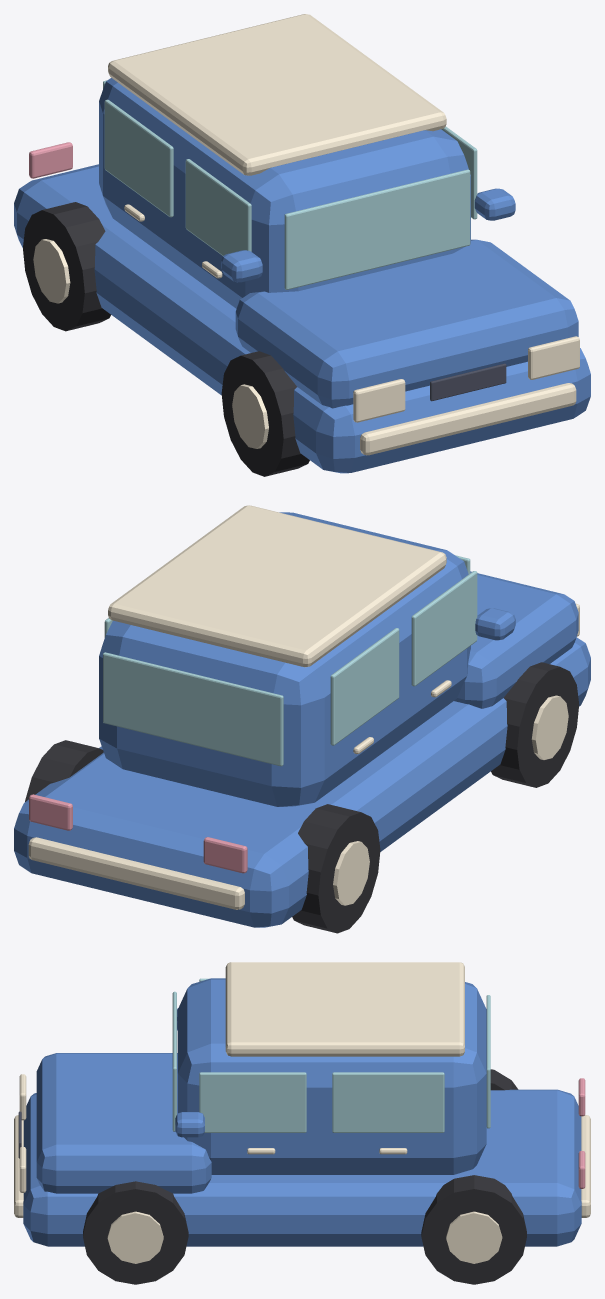
The model's file is car_ocean.glb.
3 views of the same model, one above another, from view 1: azimuth 30°, elevation 25°; view 2: azimuth 150°, elevation 25°; view 3: azimuth 270°, elevation 25° (orthographic). The views are drawn at different scales.
Parts seen in each view (by area): view 1: car_ocean_Mesh; view 2: car_ocean_Mesh; view 3: car_ocean_Mesh.
Boxes of the visible parts, x1,y1,x2,y2 form: car_ocean_Mesh: (14,14,590,476); car_ocean_Mesh: (14,505,590,933); car_ocean_Mesh: (14,962,590,1284).
Size of the model in its own units: 1.95 by 1.6 by 3.77.
